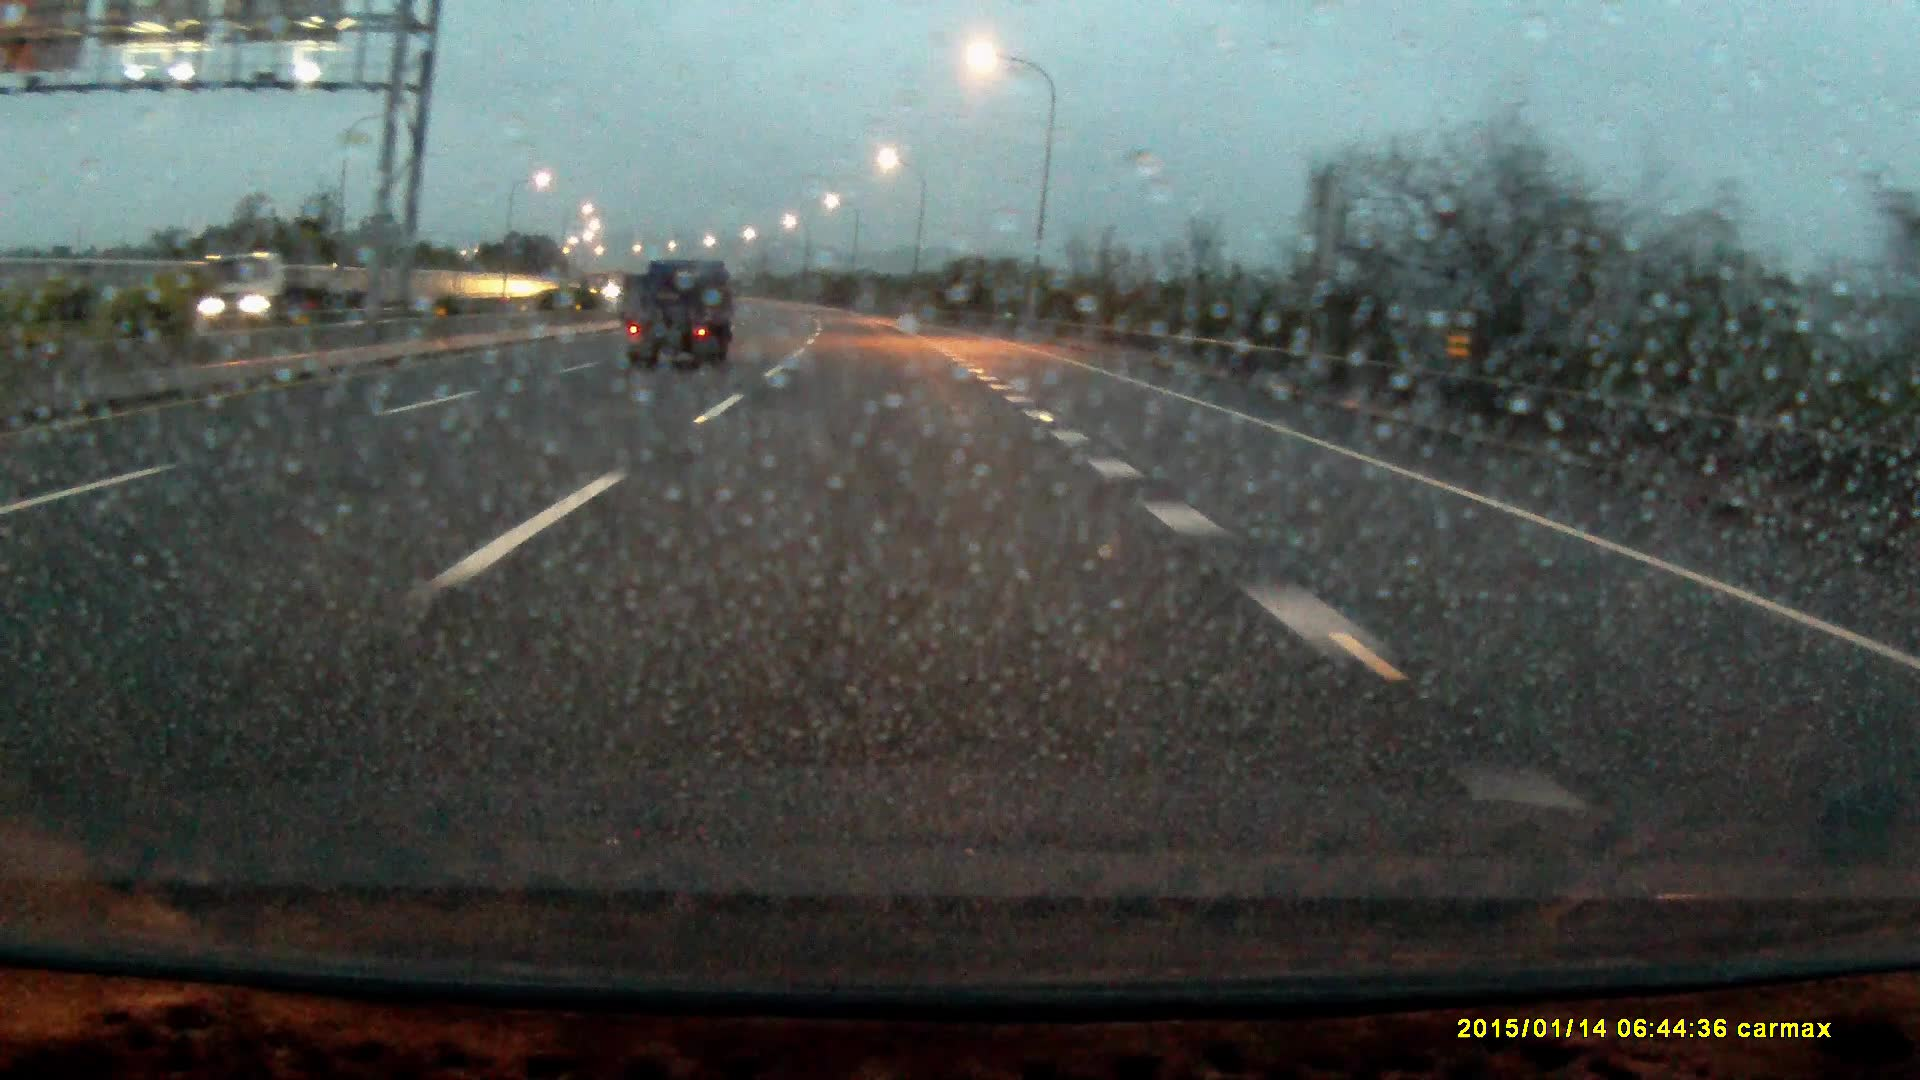vehicle: (626, 262, 737, 376), (196, 251, 356, 324)
